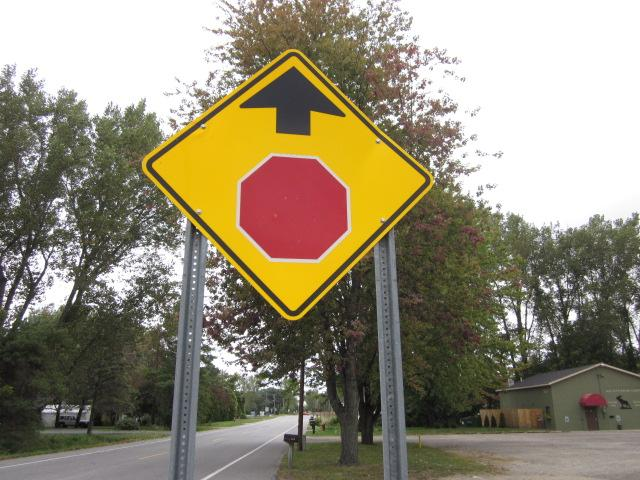stop: (239, 147, 360, 265)
warning: (132, 45, 435, 323)
